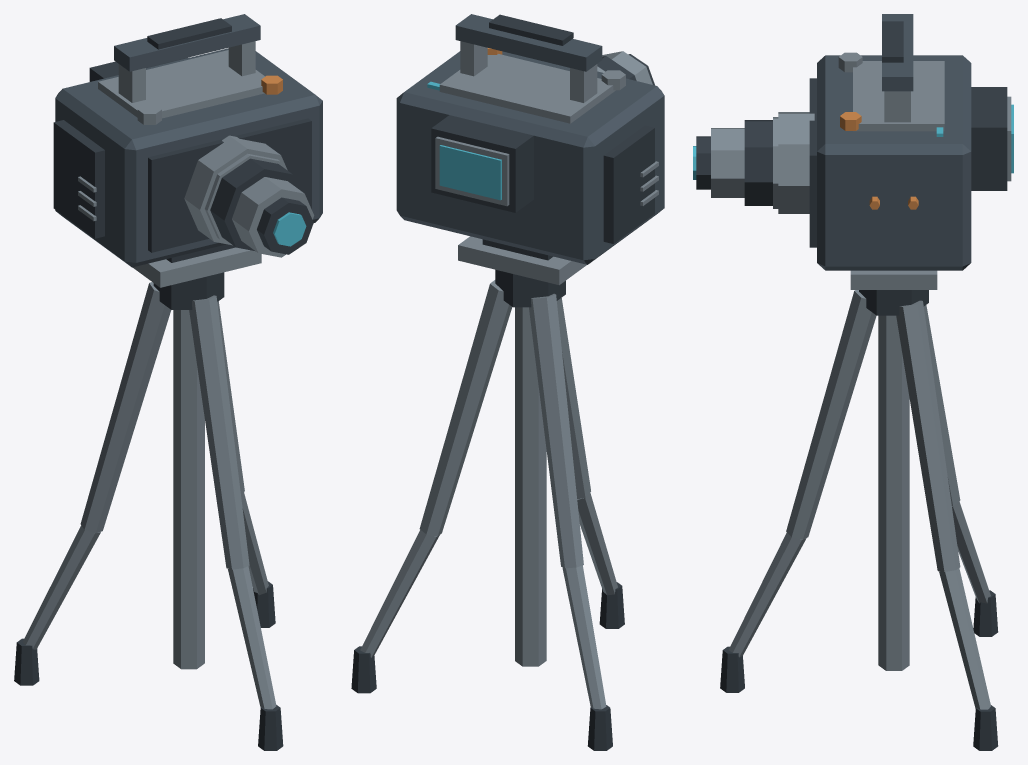
Rendered from 0-20261016-1900-ev032-r06-stage-camerarig.fbx.
3 views of the same model, side by side, from view 1: azimuth 30°, elevation 25°; view 2: azimuth 150°, elevation 25°; view 3: azimuth 270°, elevation 25° (orthographic).
Parts seen in each view (by area): view 1: SW_Stage_CameraRig; view 2: SW_Stage_CameraRig; view 3: SW_Stage_CameraRig.
Boxes of the visible parts, bbox=[...] form: SW_Stage_CameraRig: bbox=[14, 14, 322, 750]; SW_Stage_CameraRig: bbox=[351, 14, 664, 750]; SW_Stage_CameraRig: bbox=[693, 14, 1013, 750].
Bounding box in the file's own units: 121 × 297 × 133.
